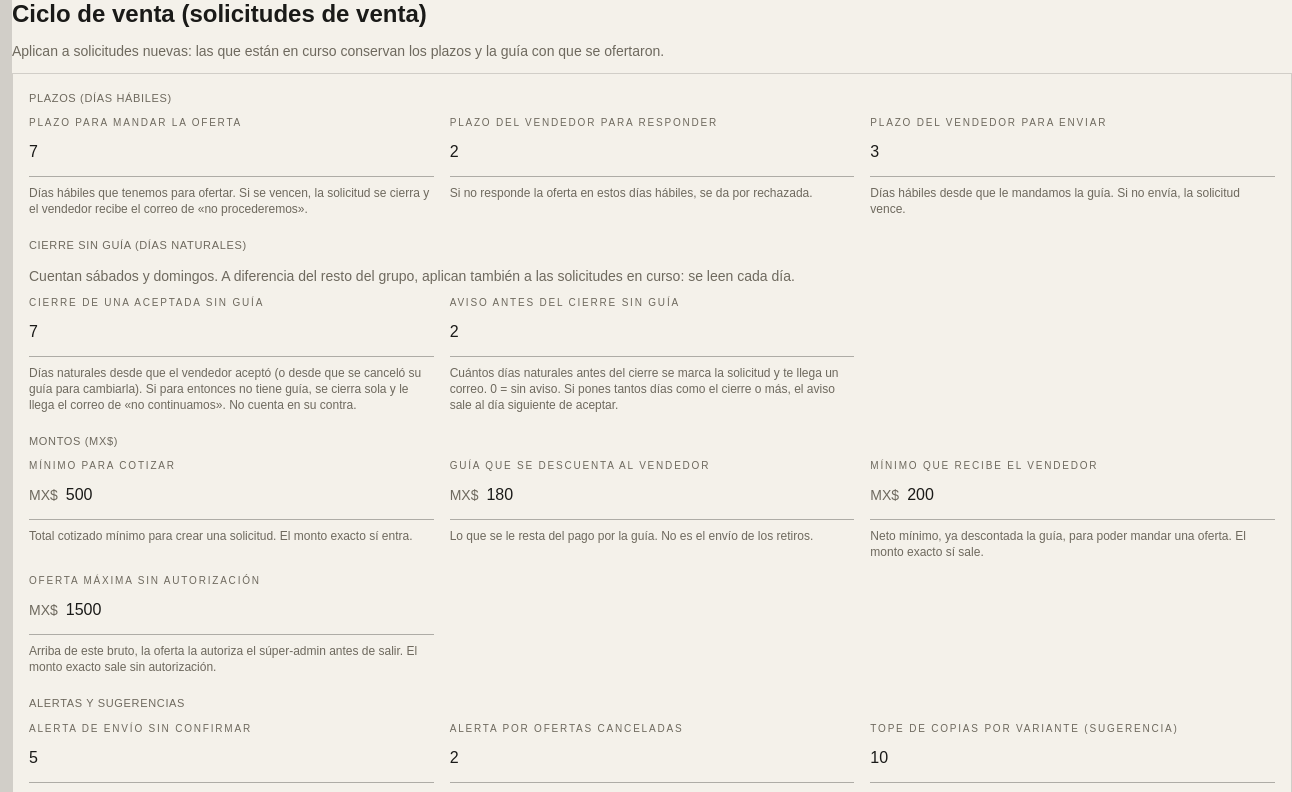
Test case: §BSD-UX.6e · «Cierre sin guía (días naturales)» › `422` por clave ⇒ SU regla, ⛔ el texto del servidor
Replace the text in the field with test id "m10-cycle-buylistGuideCloseCalendarDays" with "99". click: (231, 332)
box: top-left (29, 320), bottom-right (434, 344)
(page scrolled)
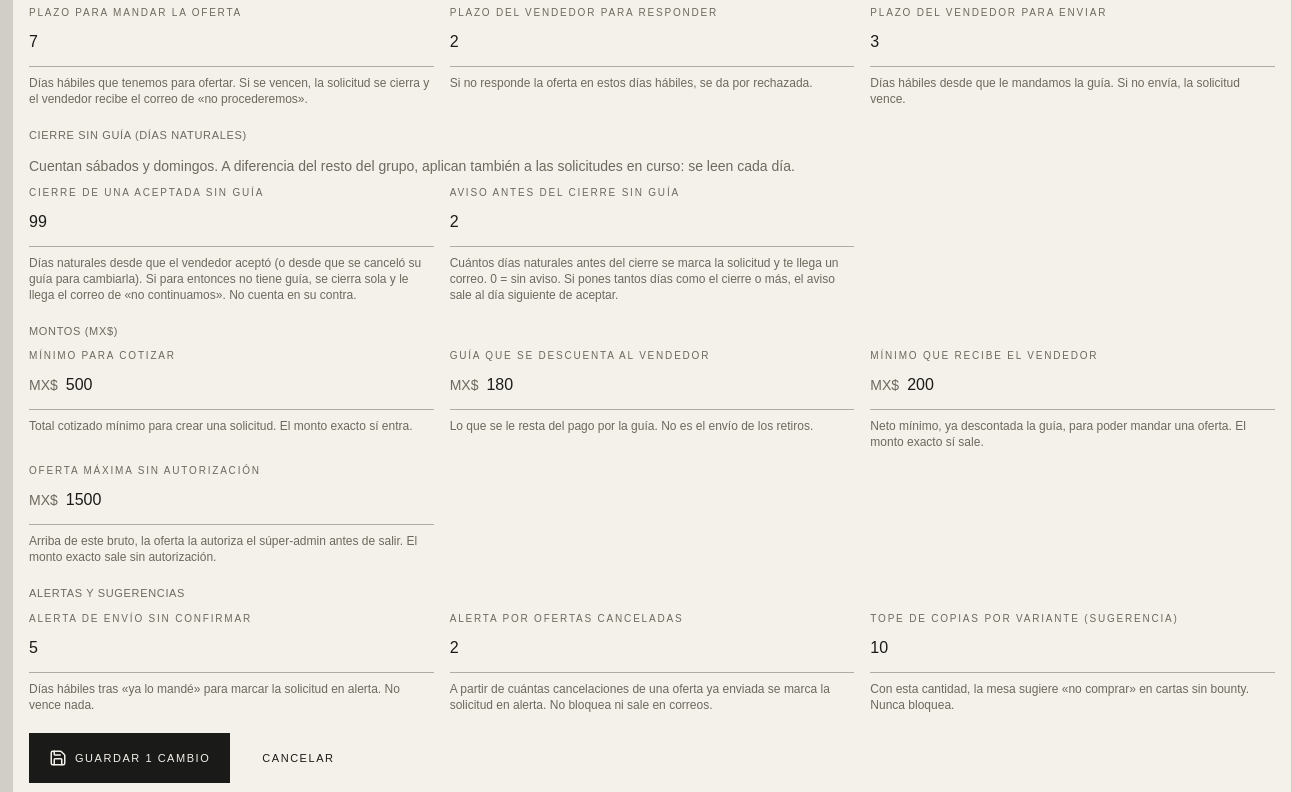
Click the button with test id "m10-cycle-save". click: (130, 758)
box: top-left (29, 733), bottom-right (230, 783)
(page scrolled)
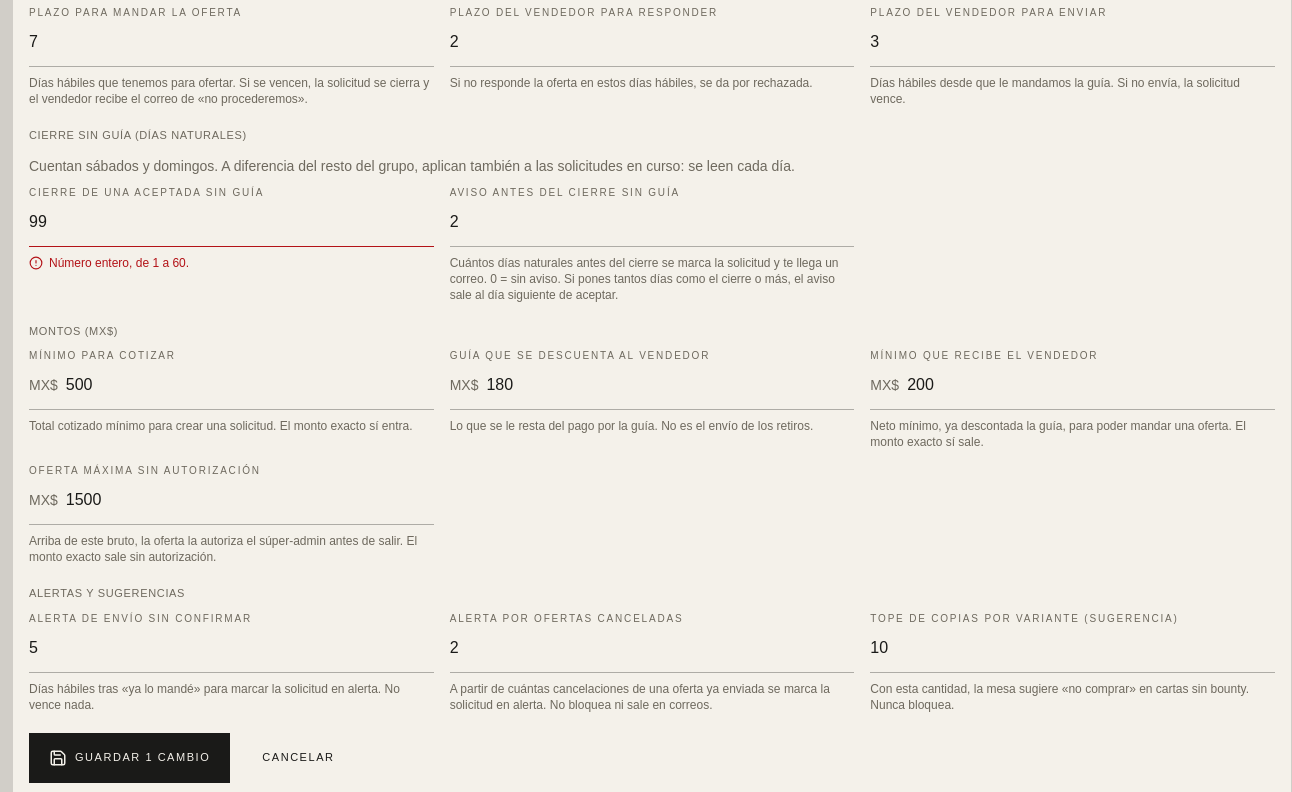
Result: the text "Número entero, de 1 a 60." is shown at top-left (29, 256), bottom-right (189, 270)
